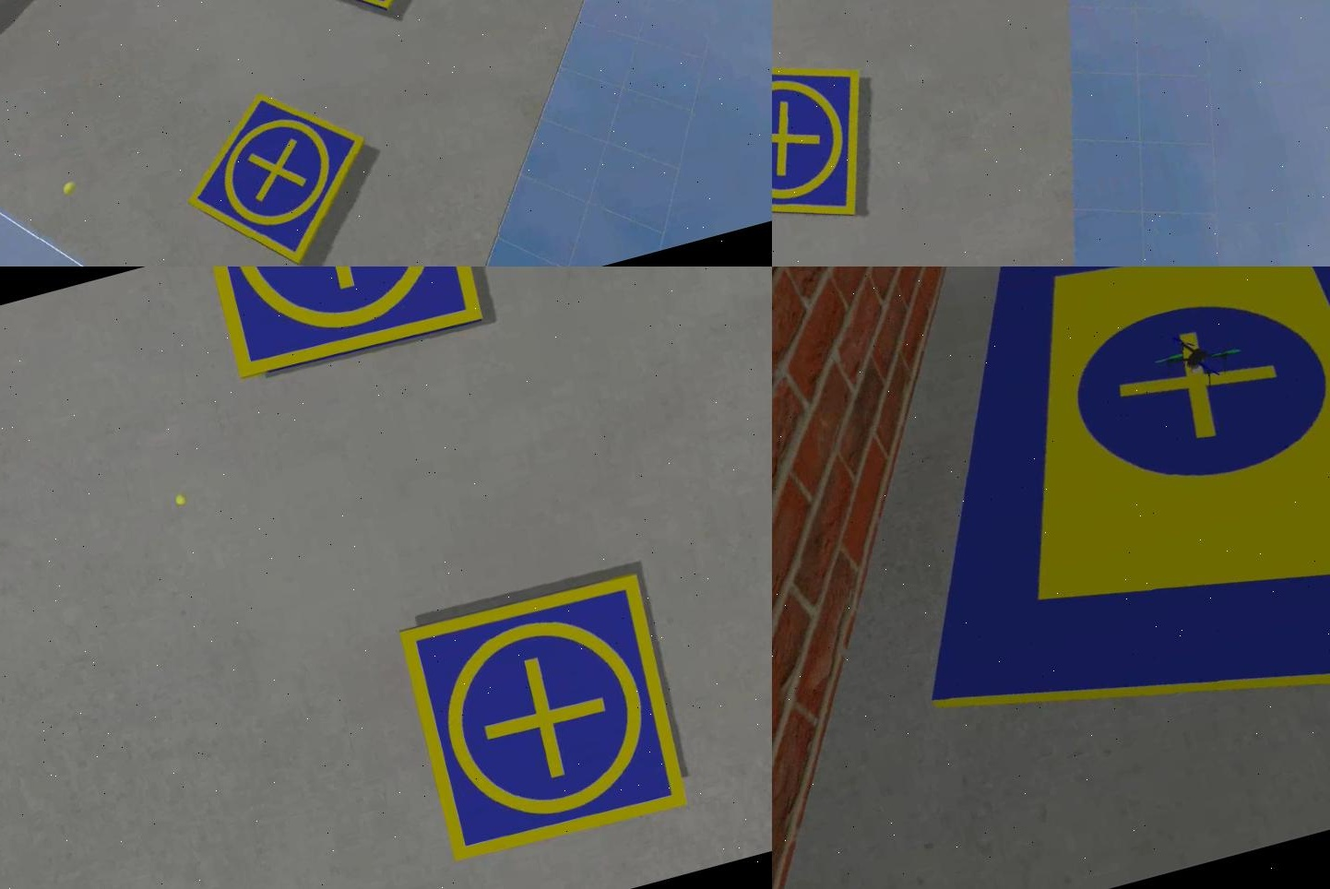large_base: (824, 267, 1328, 830)
small_base: (391, 569, 697, 869), (162, 71, 394, 267), (203, 267, 488, 387), (771, 36, 894, 253), (276, 1, 446, 33)
